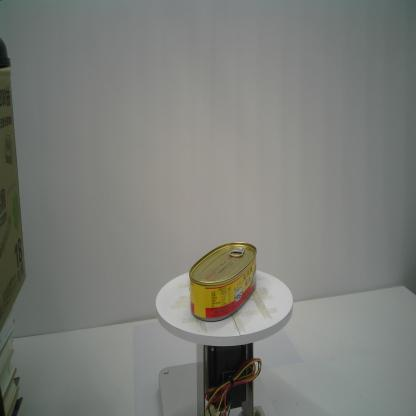Canned Food: (188, 240, 259, 325)
